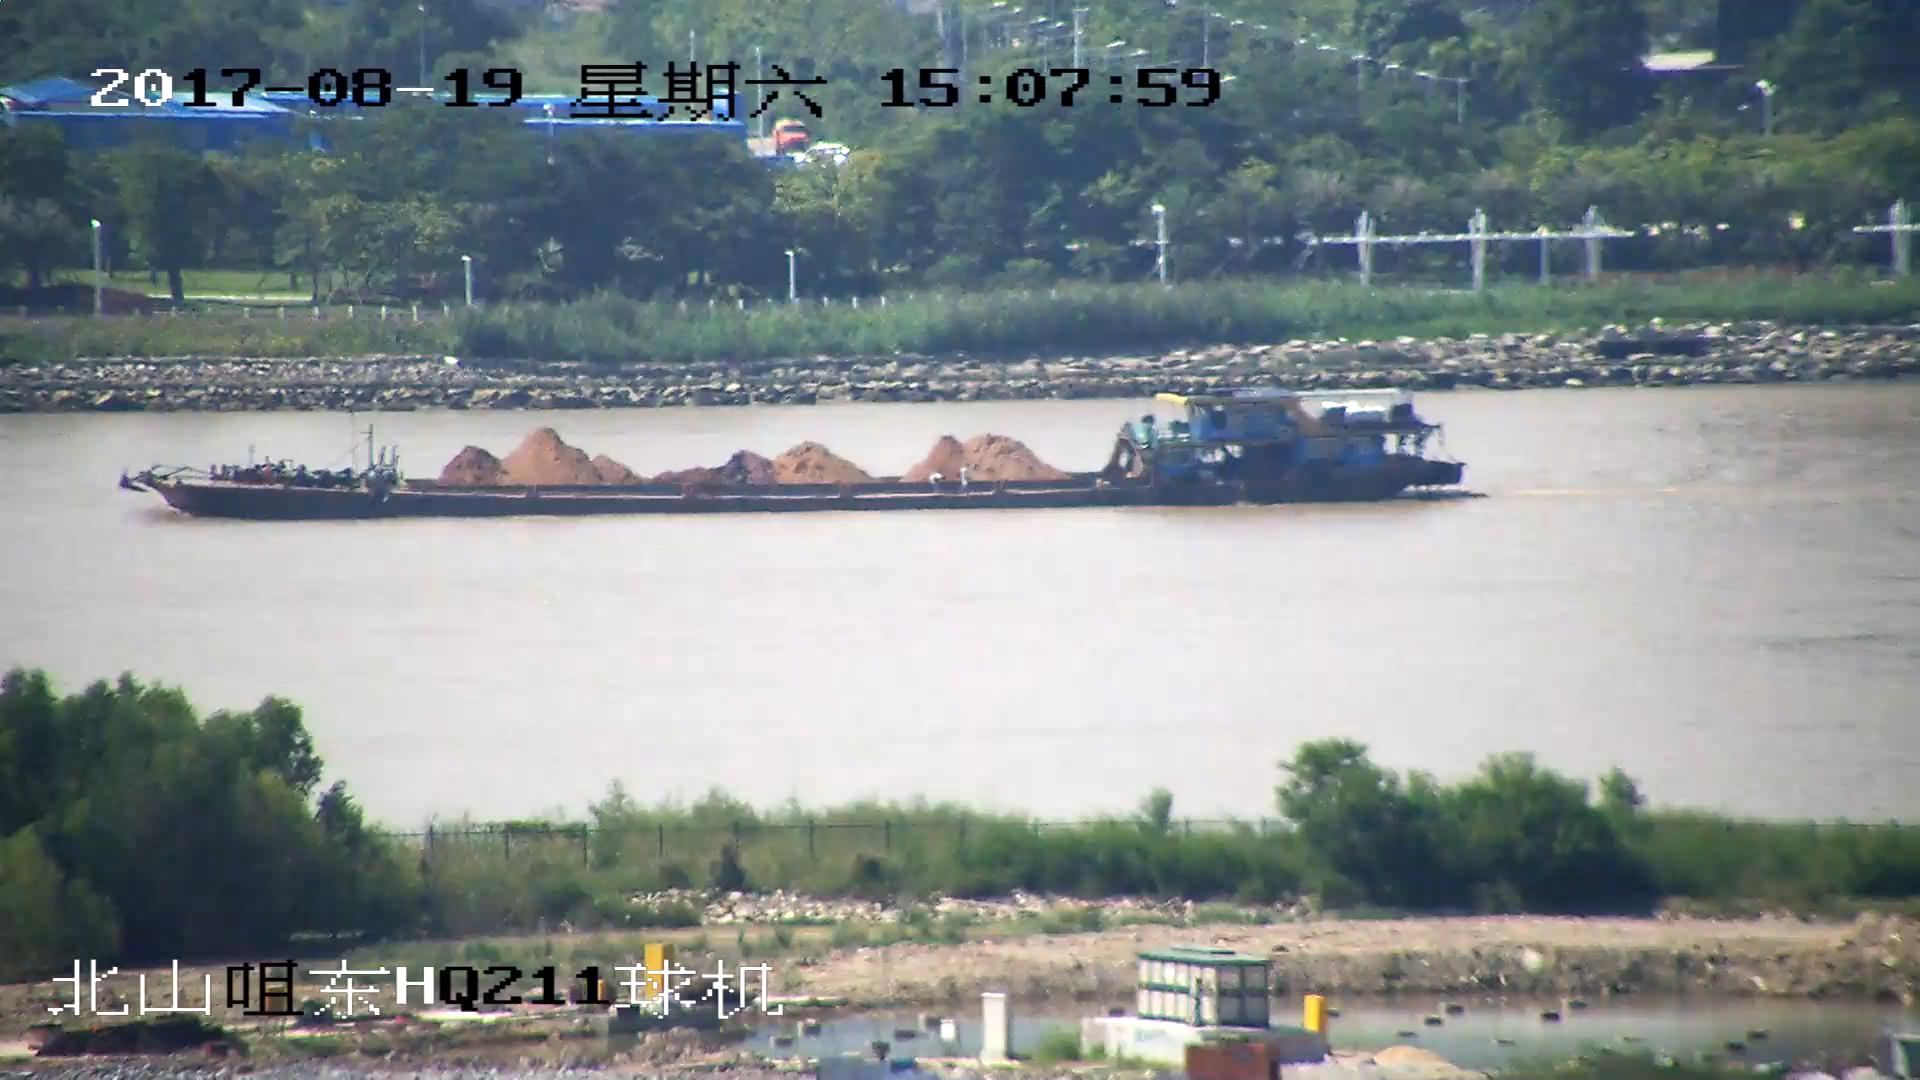ore carrier: (117, 385, 1467, 514)
